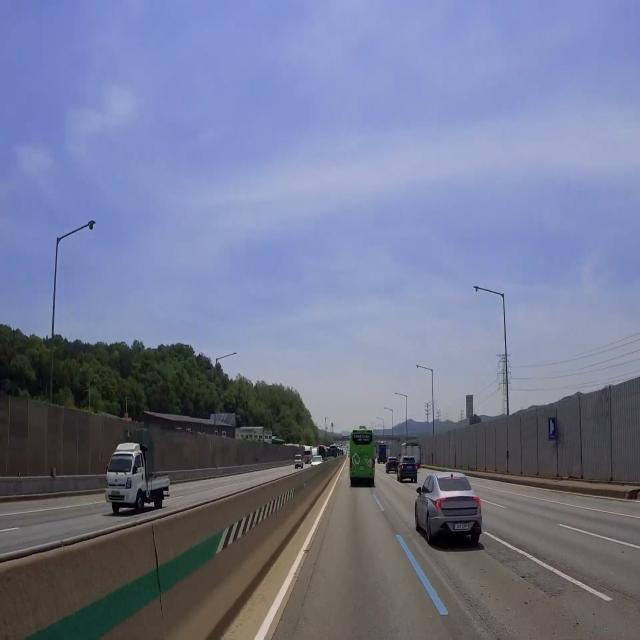car: (451, 521, 473, 532), (108, 489, 125, 501), (357, 461, 368, 475), (404, 466, 416, 473)
